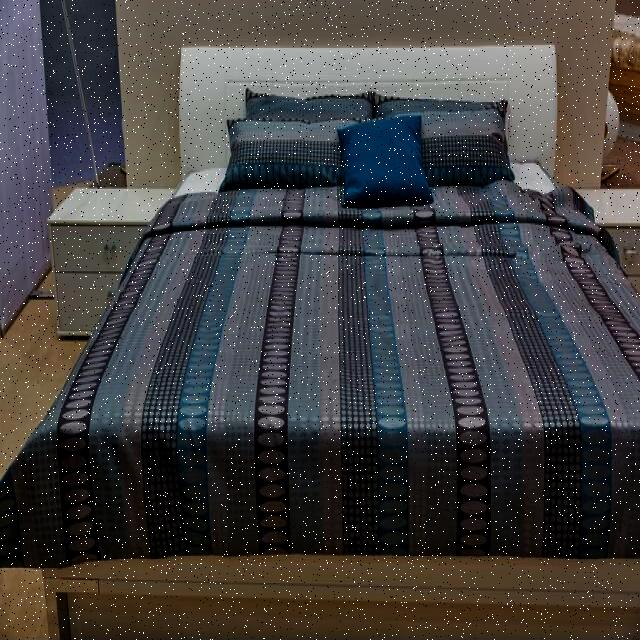bed: (74, 45, 640, 640)
